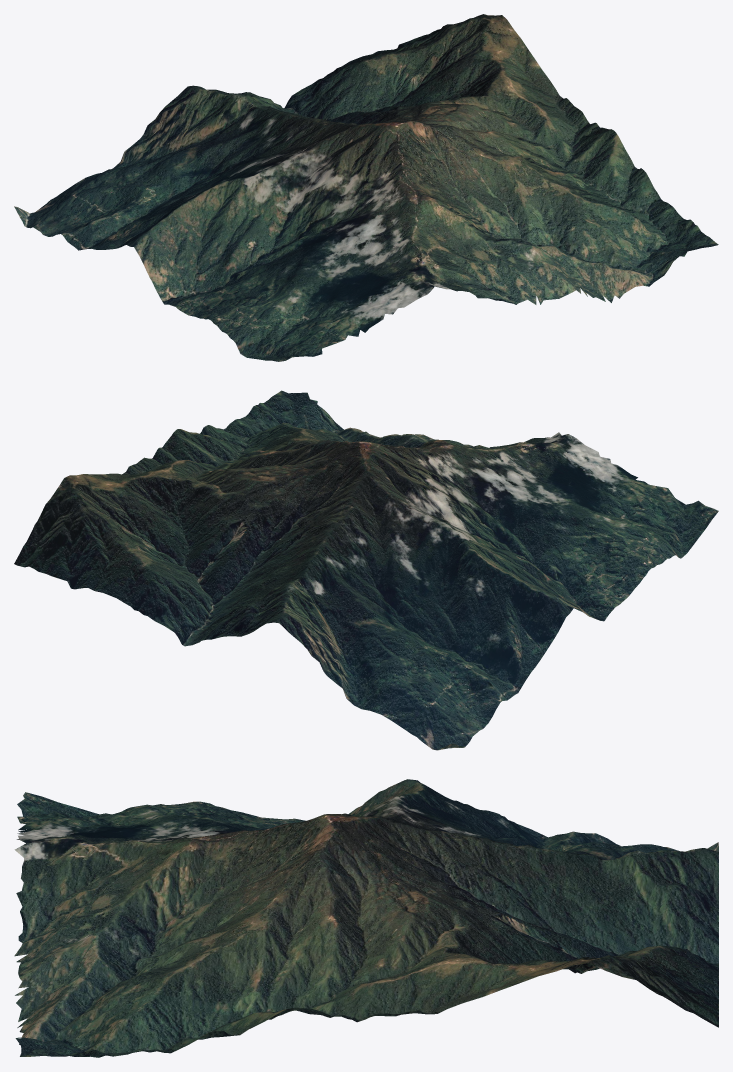
Rendered from MountainSceneNew.gltf.
3 renders of one model, top to bottom at view 1: azimuth 30°, elevation 25°; view 2: azimuth 150°, elevation 25°; view 3: azimuth 270°, elevation 25°, orthographic. The views are drawn at different scales.
Visible parts, largest first — view 1: Mukkumlung; view 2: Mukkumlung; view 3: Mukkumlung.
Part boxes in pixels (x1,y1,x2,y2): Mukkumlung: (14,14,718,361); Mukkumlung: (14,390,718,750); Mukkumlung: (14,779,718,1057).
Size of the model in its own units: 268 by 85.03 by 284.
1 material, 1 textured.
